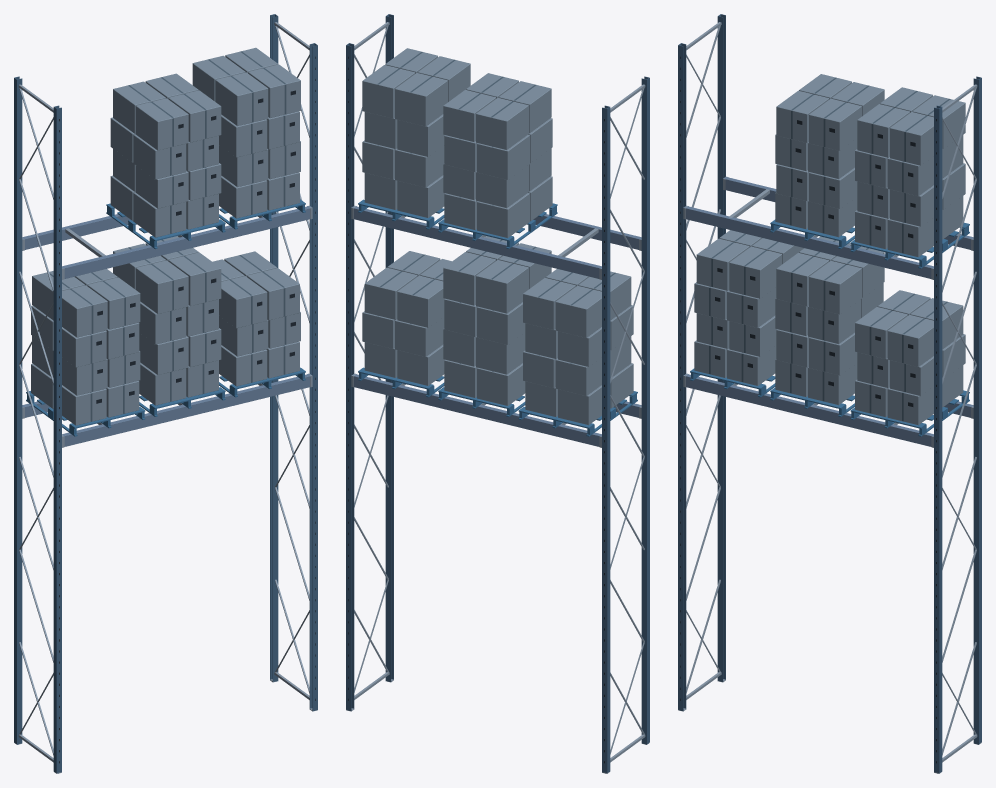
File: SM_GHS_V2Rack_D1_W37619_Occ70.fbx
3 views of the same model, side by side, from view 1: azimuth 30°, elevation 25°; view 2: azimuth 150°, elevation 25°; view 3: azimuth 330°, elevation 25° (orthographic).
Visible parts, largest first — view 1: SM_GHS_V2Rack_D1_W37619_Occ70; view 2: SM_GHS_V2Rack_D1_W37619_Occ70; view 3: SM_GHS_V2Rack_D1_W37619_Occ70.
Boxes of the visible parts, x1,y1,x2,y2 form: SM_GHS_V2Rack_D1_W37619_Occ70: (14, 14, 317, 773); SM_GHS_V2Rack_D1_W37619_Occ70: (346, 14, 649, 773); SM_GHS_V2Rack_D1_W37619_Occ70: (678, 14, 981, 773).
Size of the model in its own units: 376 by 122 by 915.
